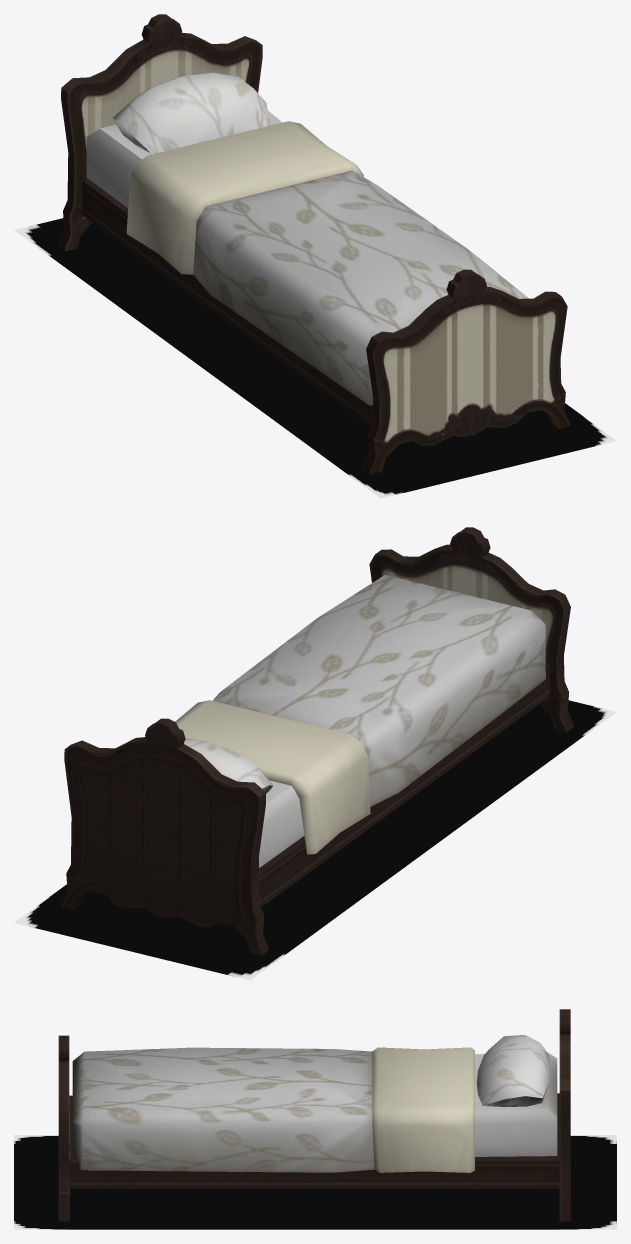
Rendered from jj_ty_chuang02_1.FBX.
3 renders of one model, top to bottom at view 1: azimuth 30°, elevation 25°; view 2: azimuth 150°, elevation 25°; view 3: azimuth 270°, elevation 25°, orthographic. The views are drawn at different scales.
Visible parts, largest first — view 1: jj_ty_chuang02_1, shadow; view 2: jj_ty_chuang02_1, shadow; view 3: jj_ty_chuang02_1, shadow.
Boxes of the visible parts, left/top/right/bottom form: jj_ty_chuang02_1: left=58, top=14, right=570, bottom=474; shadow: left=14, top=218, right=616, bottom=498; jj_ty_chuang02_1: left=62, top=527, right=573, bottom=955; shadow: left=14, top=700, right=616, bottom=980; jj_ty_chuang02_1: left=58, top=1009, right=570, bottom=1221; shadow: left=14, top=1135, right=616, bottom=1229.
Bounding box in the file's own units: 30.71 × 26.6 × 82.63.
Materials: 2 (2 with a texture image).
